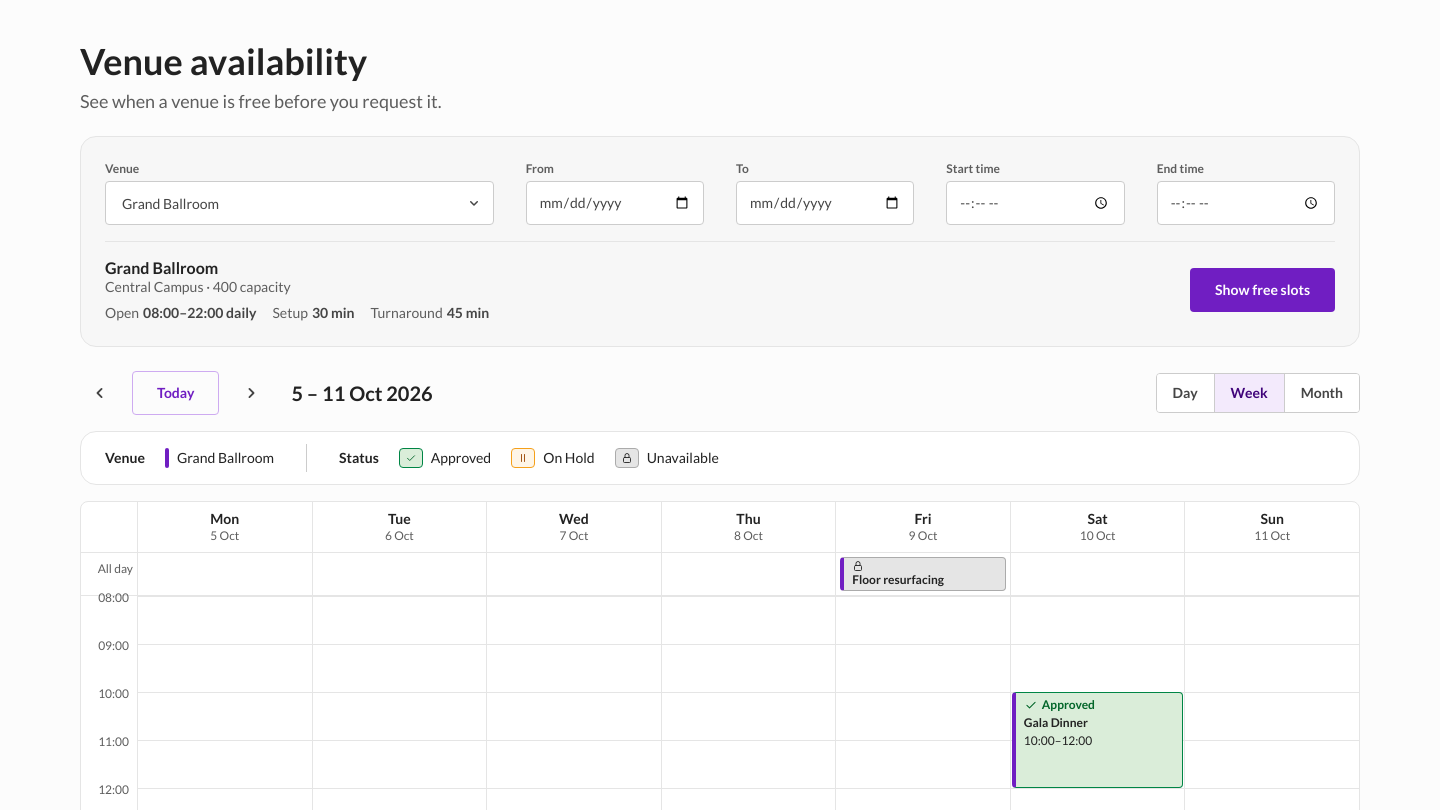
Test: VenueAvailabilityView › offers no way to review a request from here
This screenshot has width=1440, height=810.
Click the button with class "entry--approved" at (1098, 740), box [1012,692,1183,788]
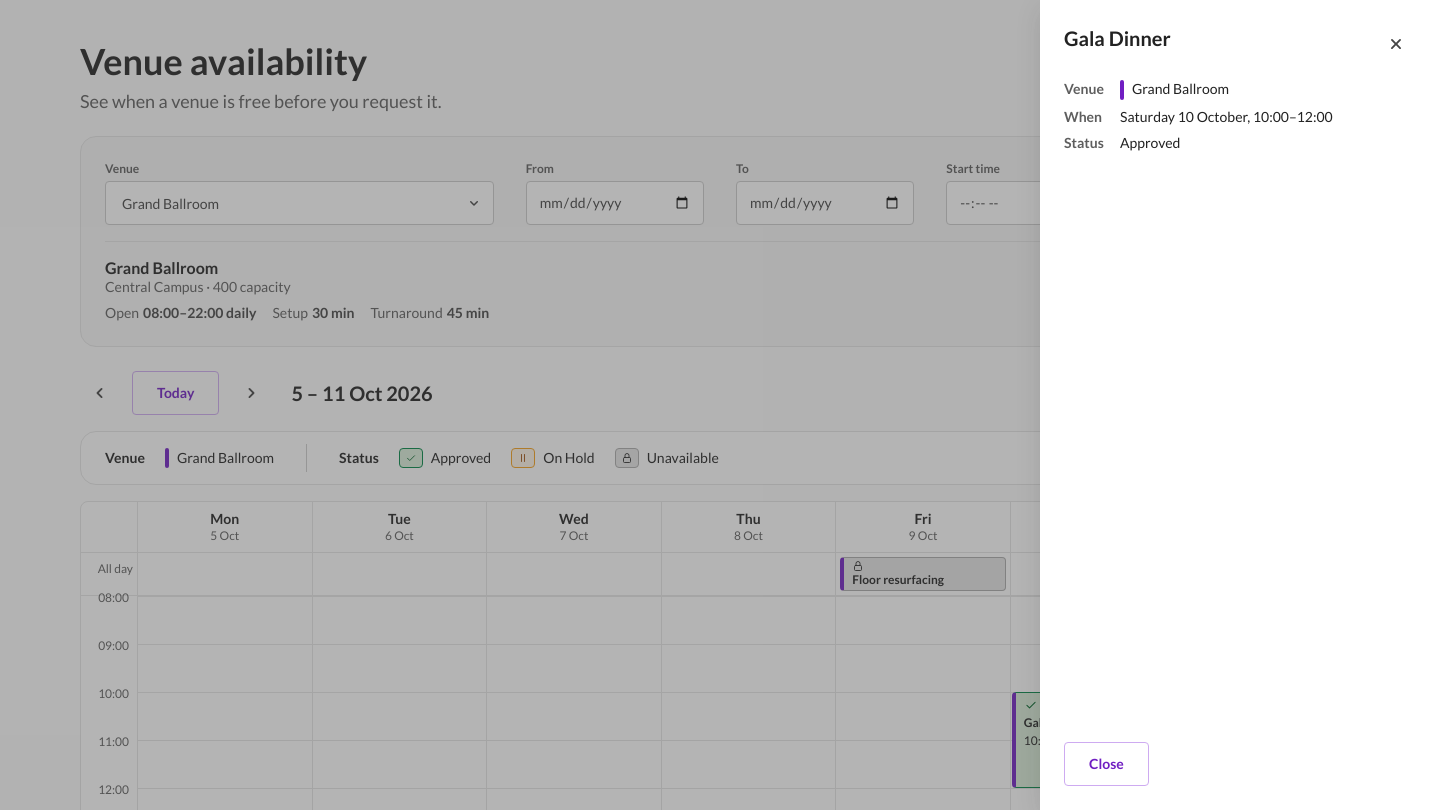
Now the dialog shows "Gala Dinner", box [1064,26,1171,50]
